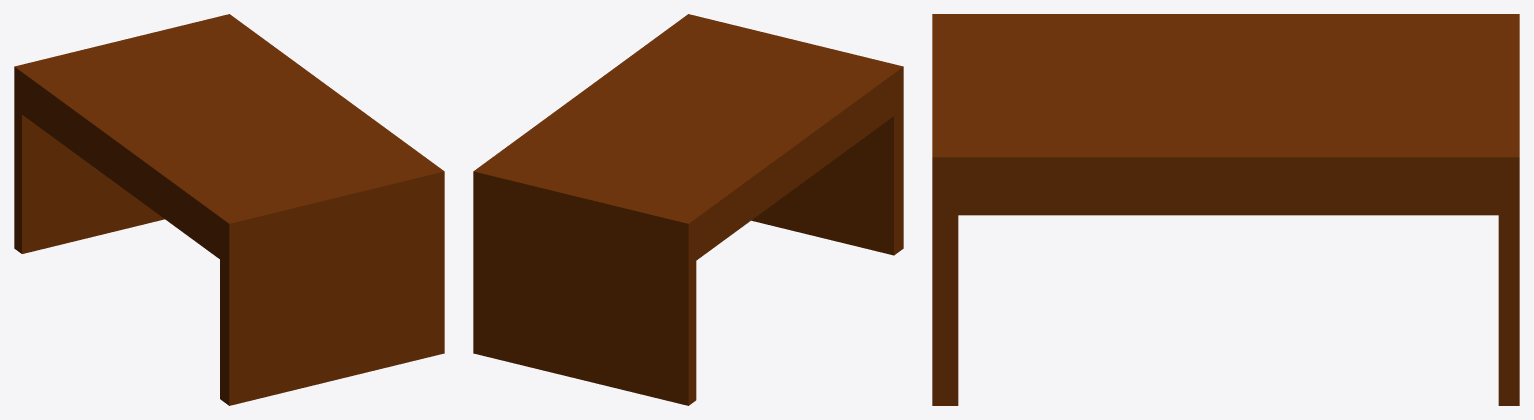
The picture shows the model from 3 angles, left to right: view 1: azimuth 30°, elevation 25°; view 2: azimuth 150°, elevation 25°; view 3: azimuth 270°, elevation 25°; orthographic projection. The views are drawn at different scales.
Visible parts, largest first — view 1: Cube.001; view 2: Cube.001; view 3: Cube.001.
Boxes of the visible parts, box(x1,y1,x2,y2) form: Cube.001: box(14, 14, 444, 405); Cube.001: box(473, 14, 903, 405); Cube.001: box(932, 14, 1519, 405).
Size of the model in its own units: 0.6525 by 1.13 by 0.5274.
